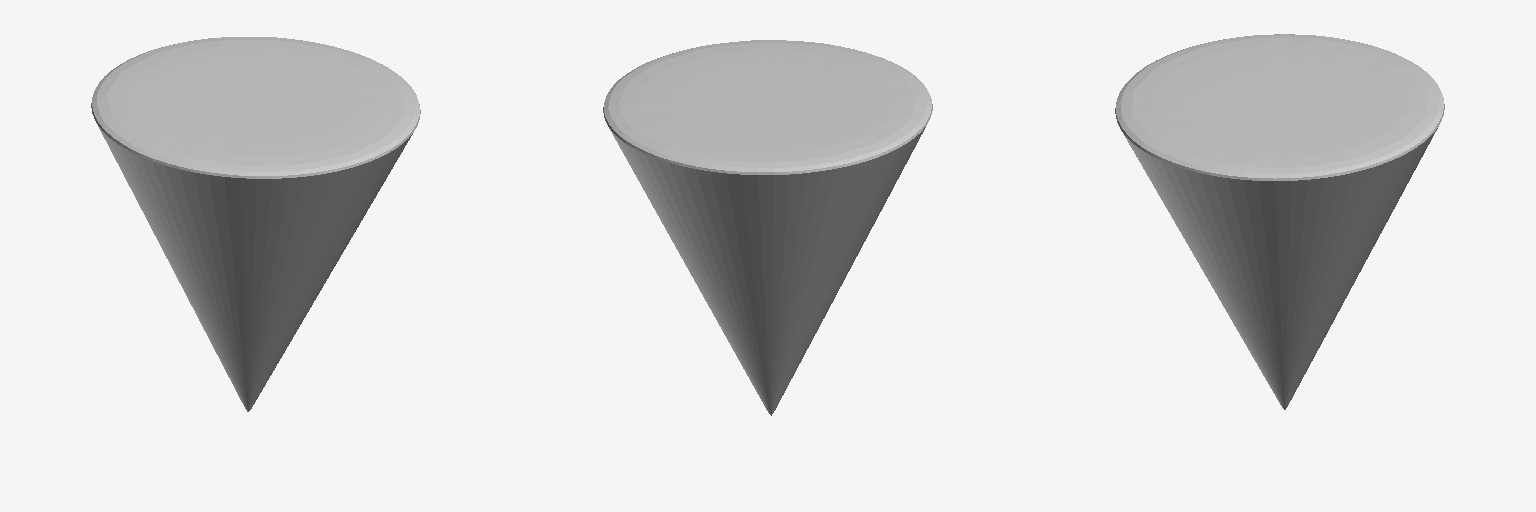
Rendered from SubTool-29-2234909.OBJ.
3 views of the same model, side by side, from view 1: azimuth 30°, elevation 25°; view 2: azimuth 150°, elevation 25°; view 3: azimuth 270°, elevation 25° (orthographic).
Parts seen in each view (by area): view 1: Group16560; view 2: Group16560; view 3: Group16560.
Boxes of the visible parts, x1=… form: Group16560: x1=91, y1=37, x2=420, y2=411; Group16560: x1=603, y1=40, x2=932, y2=415; Group16560: x1=1115, y1=34, x2=1444, y2=409.
Bounding box in the file's own units: 9.9 × 10.42 × 9.9.